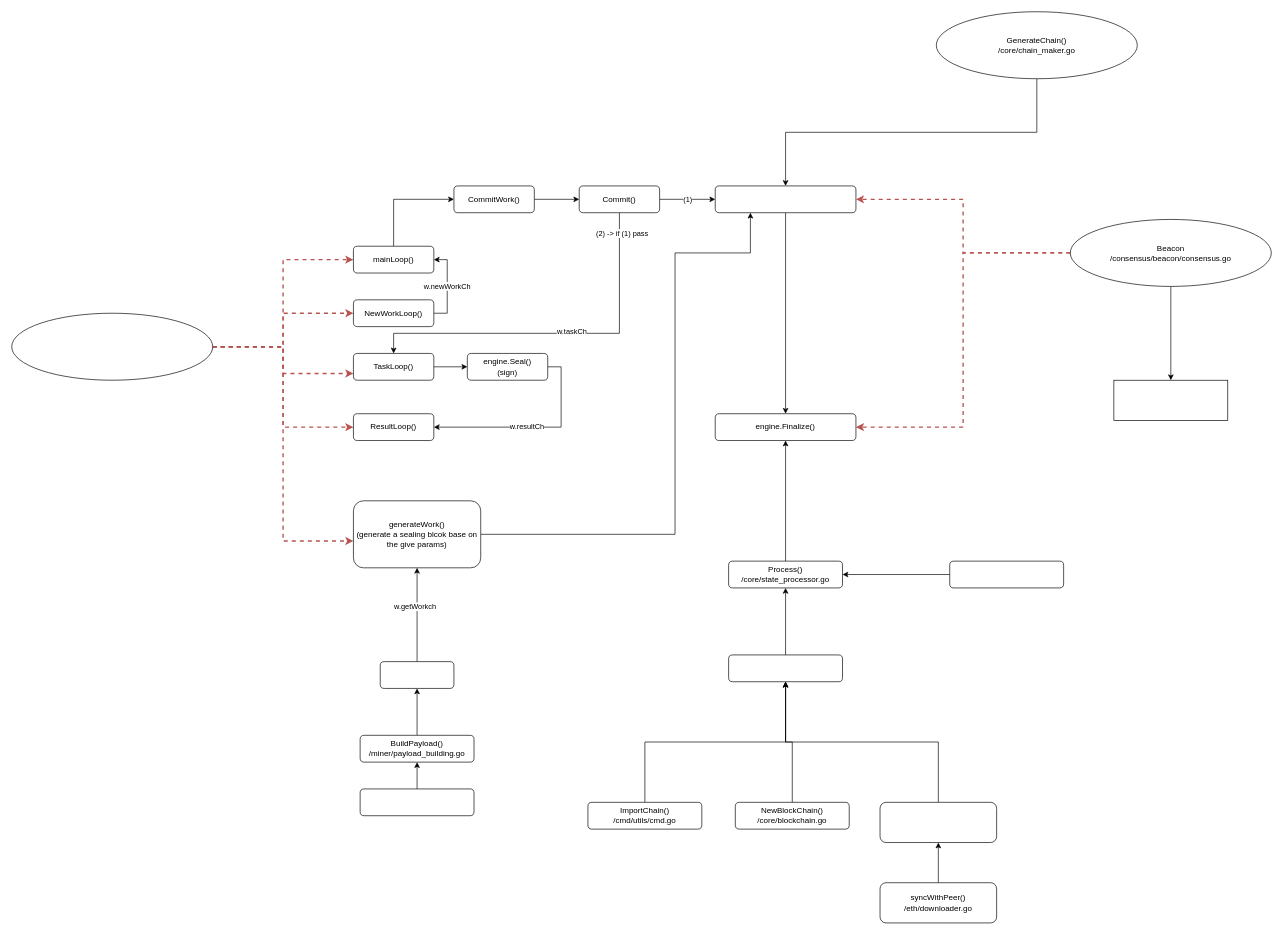
The diagram is 1283 pixels wide and 935 high, and some of its shapes have lost their labels. Each missing label, with the centre of its shape:
"engine.FinalizeAndAssemble()" belongs at (x=785, y=199).
"forkChoiceUpdate() Catalyst" belongs at (x=416, y=802).
"getSealingBlock()" belongs at (x=417, y=674).
"InsertChain() /core/blockchain.go" belongs at (x=785, y=668).
"New() (setup system engine)" belongs at (x=1170, y=400).
"newWorker /miner/worker.go" belongs at (x=112, y=346).
"processFullSynContent() processSnapSynContent() /eth/downloader.go" belongs at (x=938, y=822).
"StateAtBlock() /eth/state_accesstor.go" belongs at (x=1006, y=574).
